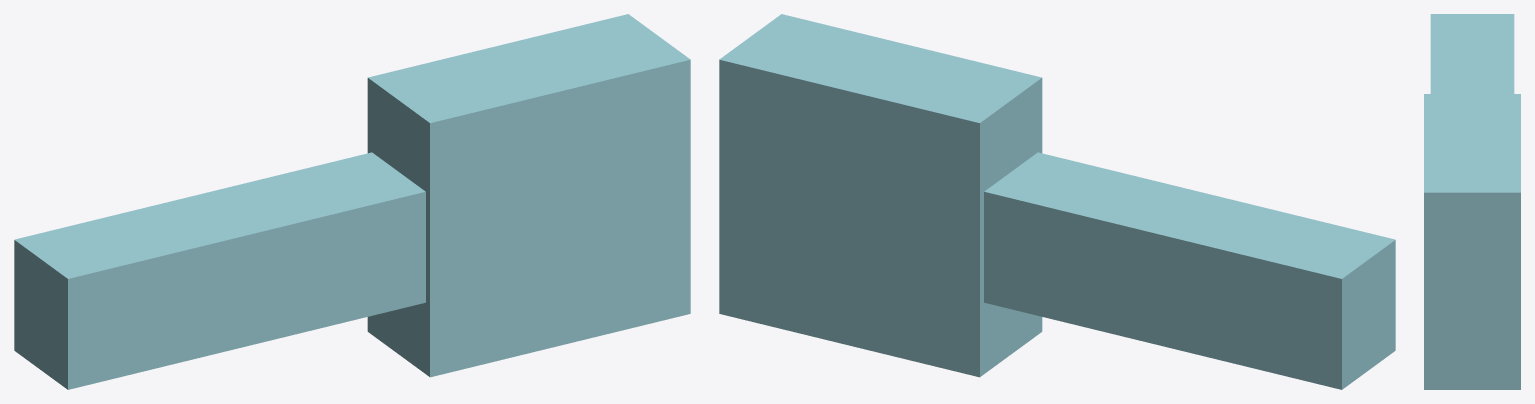
The model's file is cuboid_brush_v10000.obj.
3 renders of one model, left to right at view 1: azimuth 30°, elevation 25°; view 2: azimuth 150°, elevation 25°; view 3: azimuth 270°, elevation 25°, orthographic. The views are drawn at different scales.
Bounding box in the file's own units: 0.1842 × 0.0723 × 0.0322.
1 material, 1 textured.
